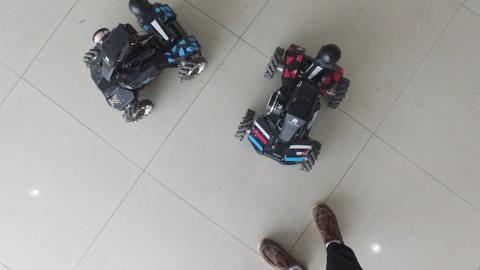chariot: (77, 1, 218, 129), (235, 31, 352, 185)
